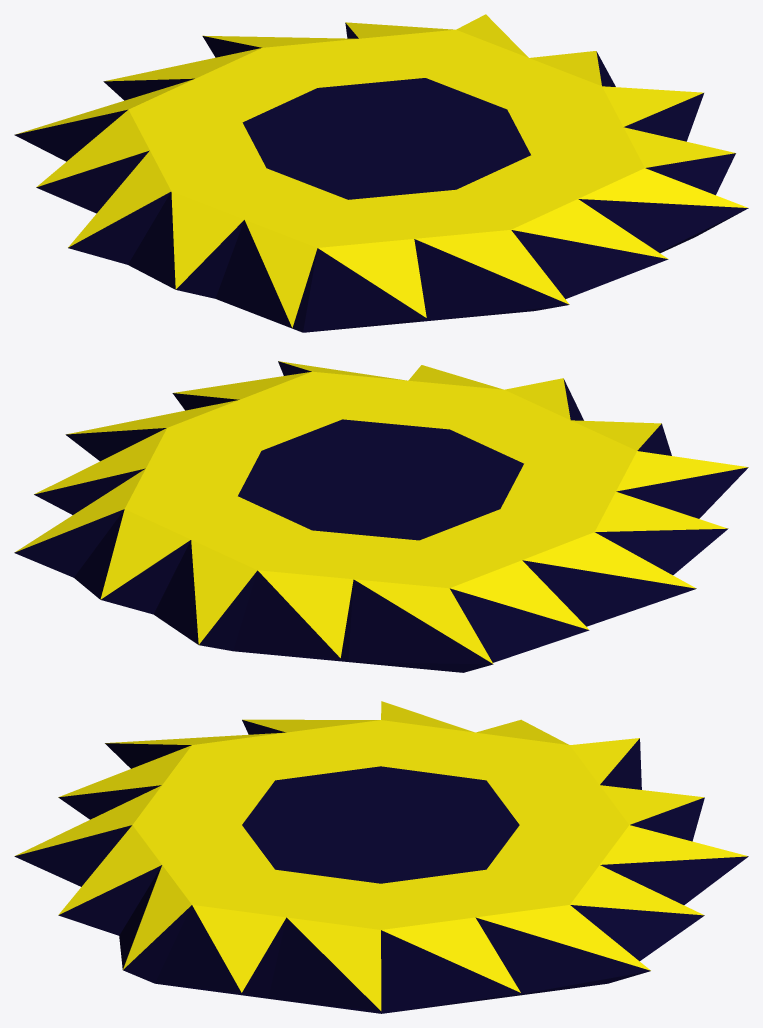
Rendered from sawblade.fbx.
3 views of the same model, one above another, from view 1: azimuth 30°, elevation 25°; view 2: azimuth 150°, elevation 25°; view 3: azimuth 270°, elevation 25° (orthographic).
Visible parts, largest first — view 1: saw.001; view 2: saw.001; view 3: saw.001.
Boxes of the visible parts, left/top/right/bottom form: saw.001: left=14, top=14, right=748, bottom=332; saw.001: left=14, top=361, right=748, bottom=672; saw.001: left=14, top=701, right=748, bottom=1013.
Size of the model in its own units: 199 by 199 by 18.84.
